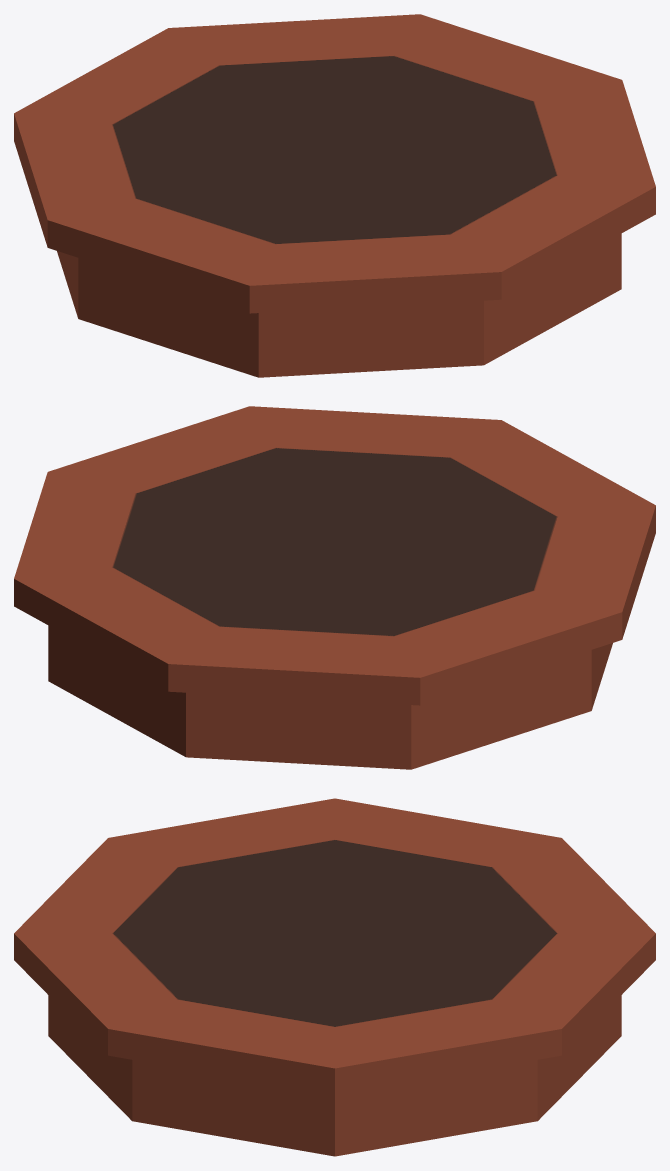
File: Big_Pot.fbx
3 views of the same model, one above another, from view 1: azimuth 30°, elevation 25°; view 2: azimuth 150°, elevation 25°; view 3: azimuth 270°, elevation 25° (orthographic). The views are drawn at different scales.
Parts seen in each view (by area): view 1: Big Pot; view 2: Big Pot; view 3: Big Pot.
Boxes of the visible parts, x1=… form: Big Pot: x1=14, y1=14, x2=655, y2=377; Big Pot: x1=14, y1=406, x2=655, y2=769; Big Pot: x1=14, y1=798, x2=655, y2=1156.
Bounding box in the file's own units: 892 × 896 × 158.
